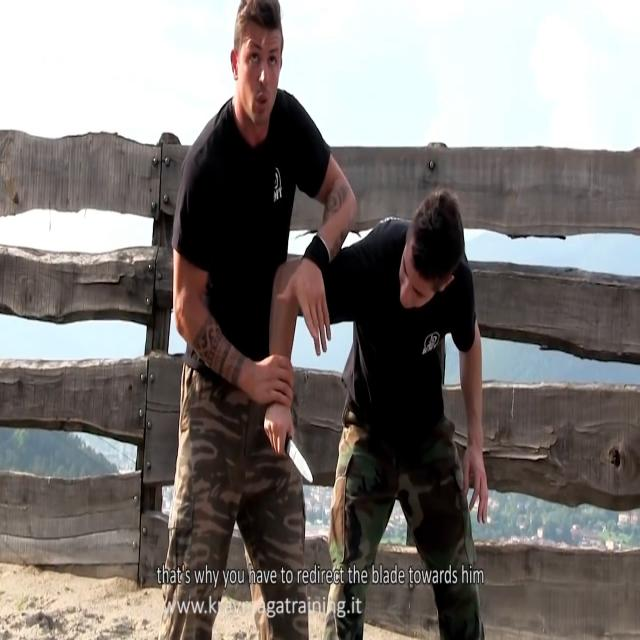knife: (284, 428, 314, 488)
